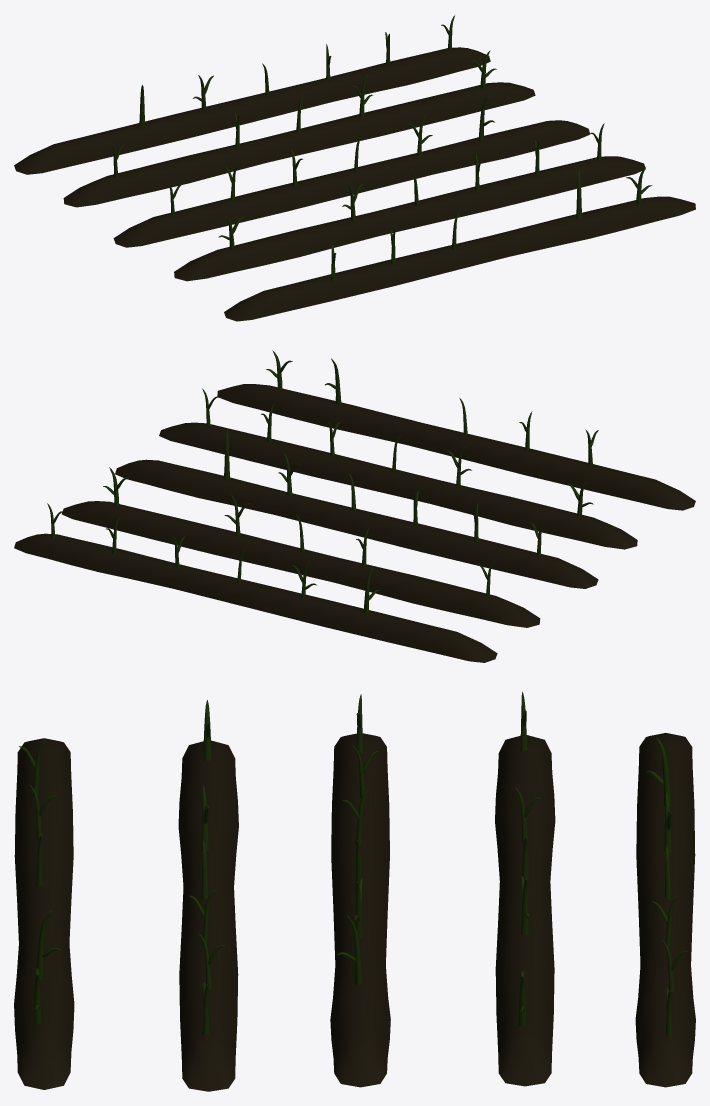
File: Farm_Dirt_Level2.obj
3 renders of one model, top to bottom at view 1: azimuth 30°, elevation 25°; view 2: azimuth 150°, elevation 25°; view 3: azimuth 270°, elevation 25°, orthographic. The views are drawn at different scales.
Visible parts, largest first — view 1: Farm_Dirt_Level2_Cube.050; view 2: Farm_Dirt_Level2_Cube.050; view 3: Farm_Dirt_Level2_Cube.050.
Part boxes in pixels (<box>): Farm_Dirt_Level2_Cube.050: <box>14,15,695,321</box>; Farm_Dirt_Level2_Cube.050: <box>14,350,695,662</box>; Farm_Dirt_Level2_Cube.050: <box>14,691,695,1091</box>.
Bounding box in the file's own units: 1.79 × 0.2209 × 1.44.
